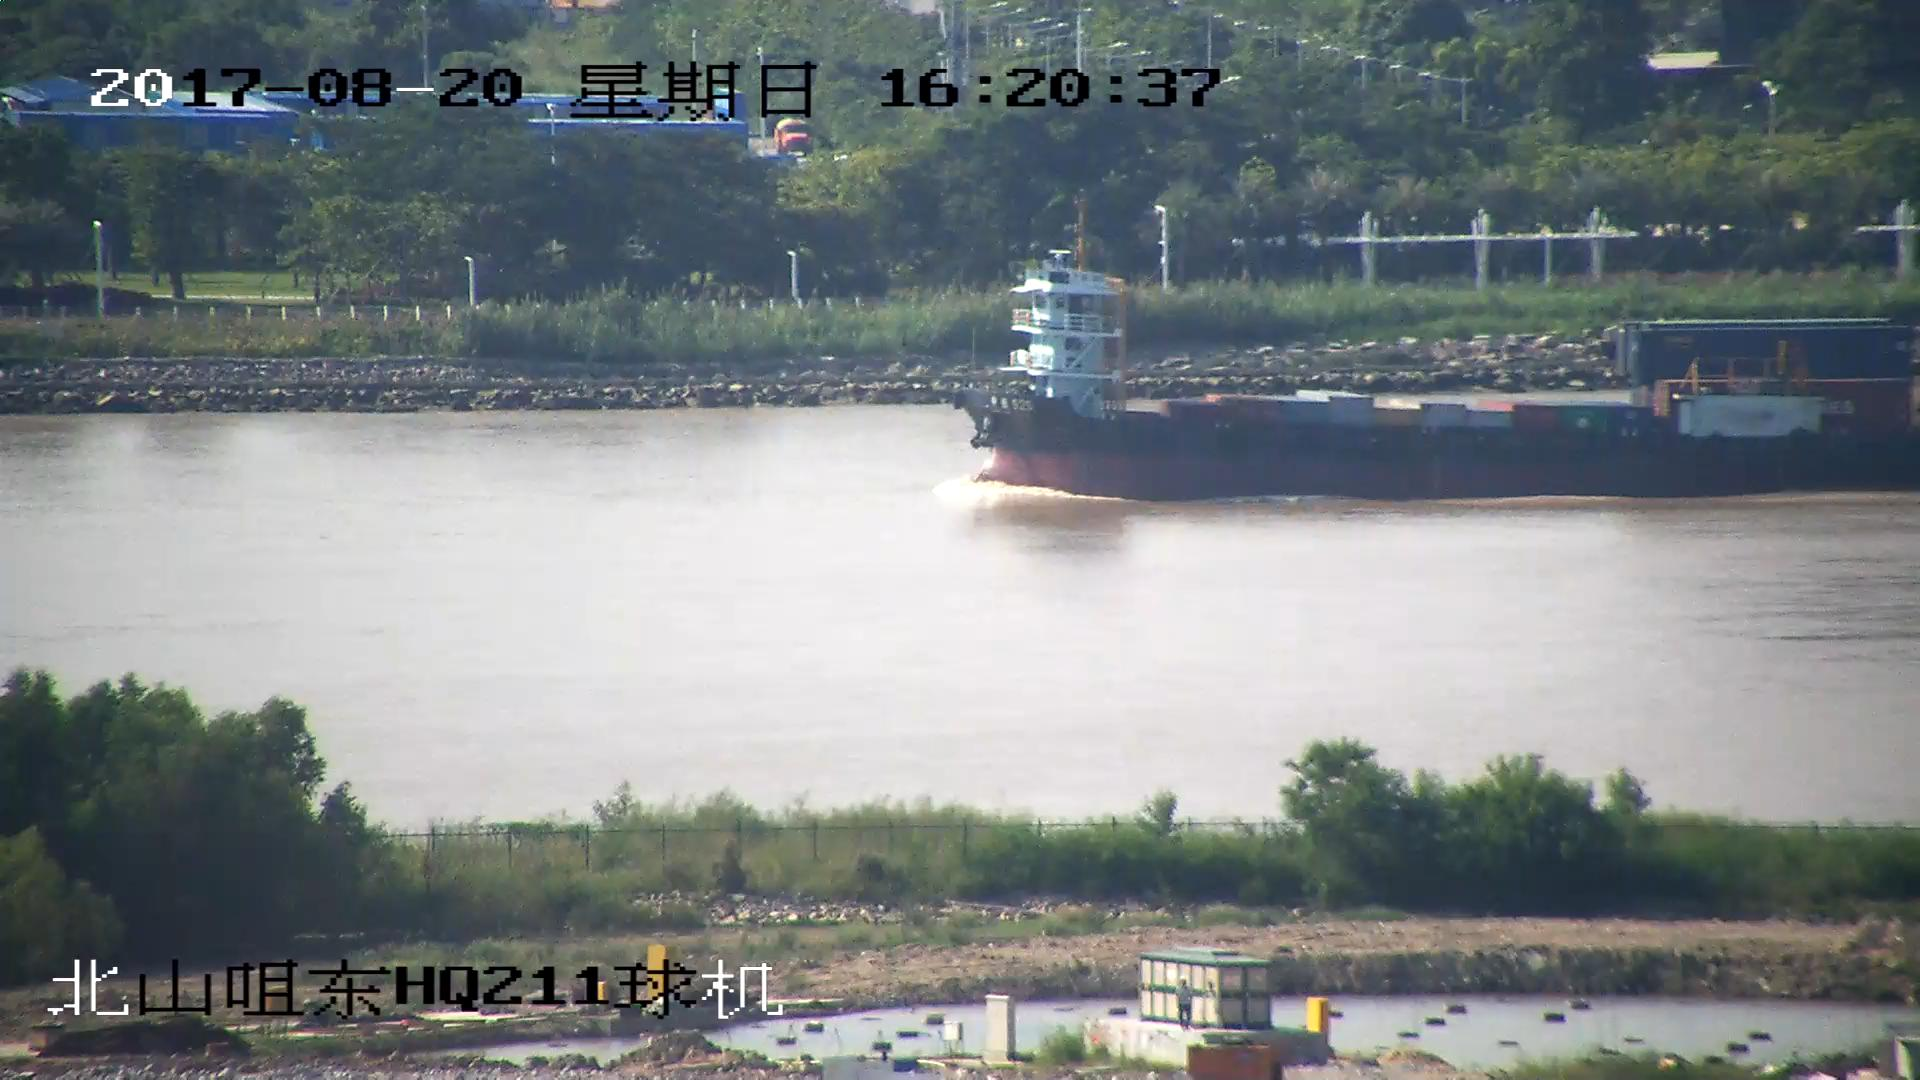container ship: (959, 250, 1920, 503)
